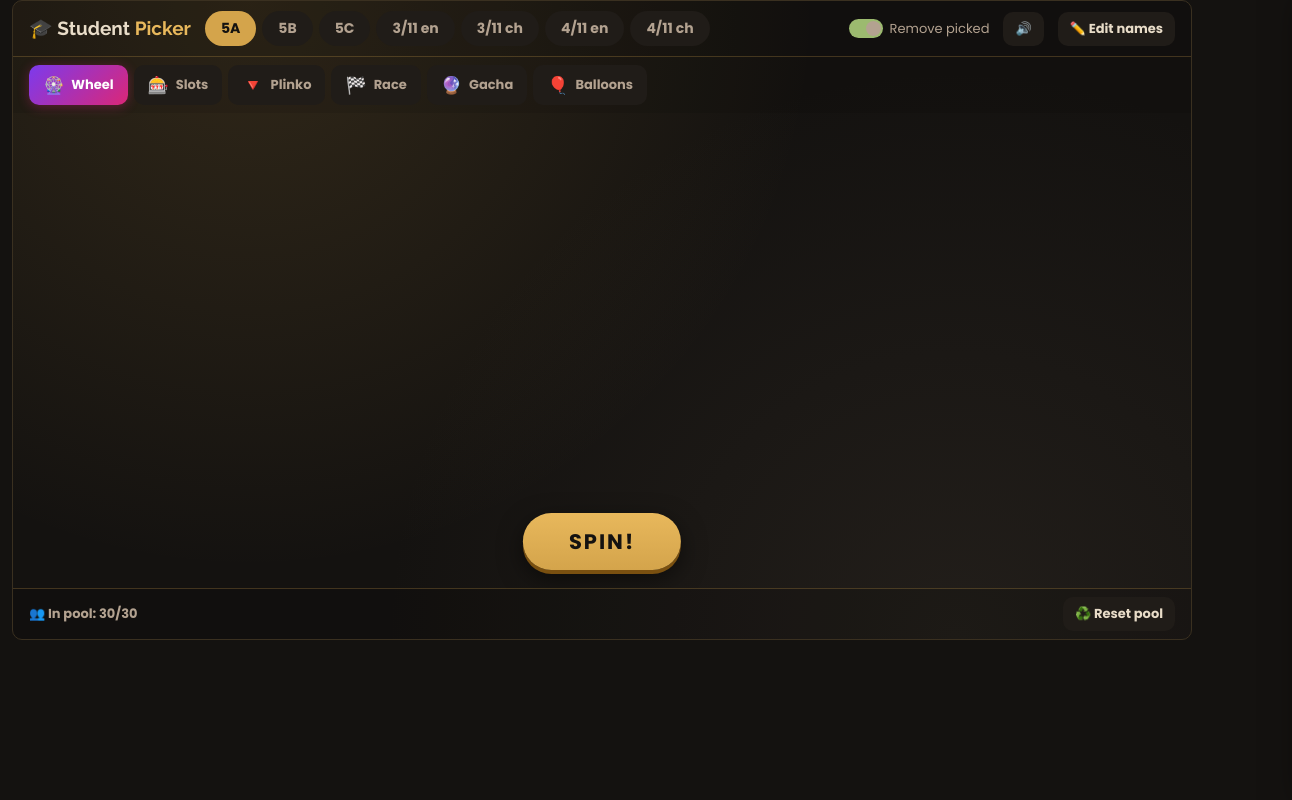
Scenario: WheelOfNames › blocks the go button while a spin is in flight
Click the button "🔮 Gacha".
click(477, 85)  # box x1=427 y1=65 x2=527 y2=105
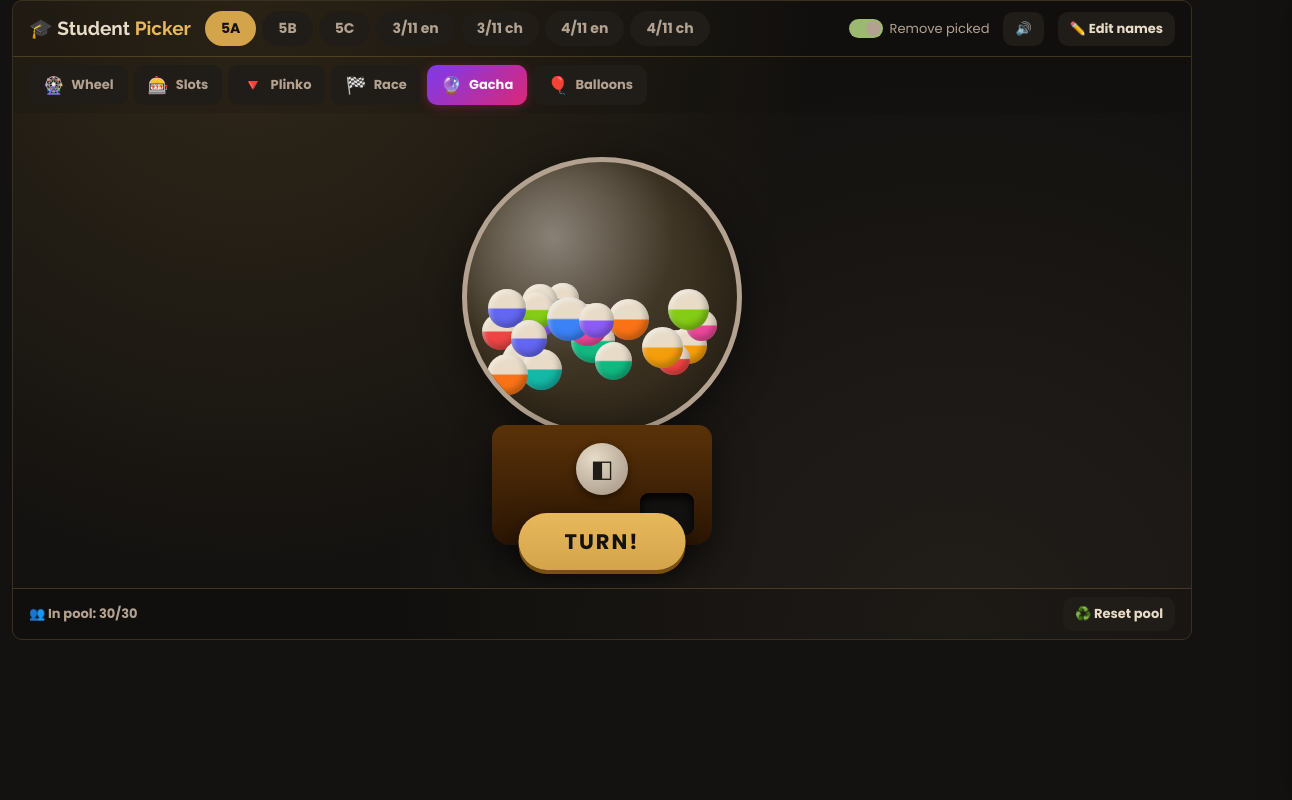
Click the button with class "wheel-gobtn".
click(602, 542)  # box x1=518 y1=513 x2=685 y2=570
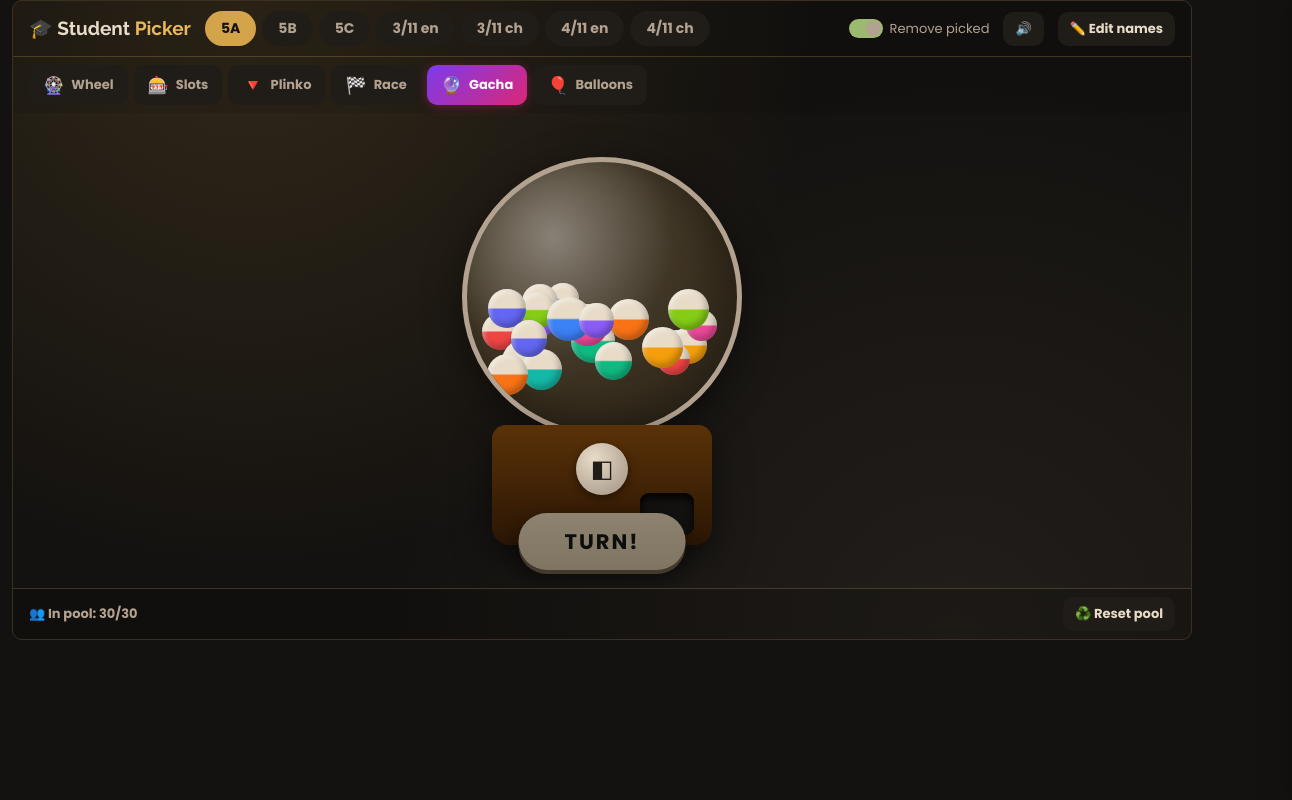
Result: the button with class "wheel-gobtn" is disabled at x1=518 y1=513 x2=685 y2=570
